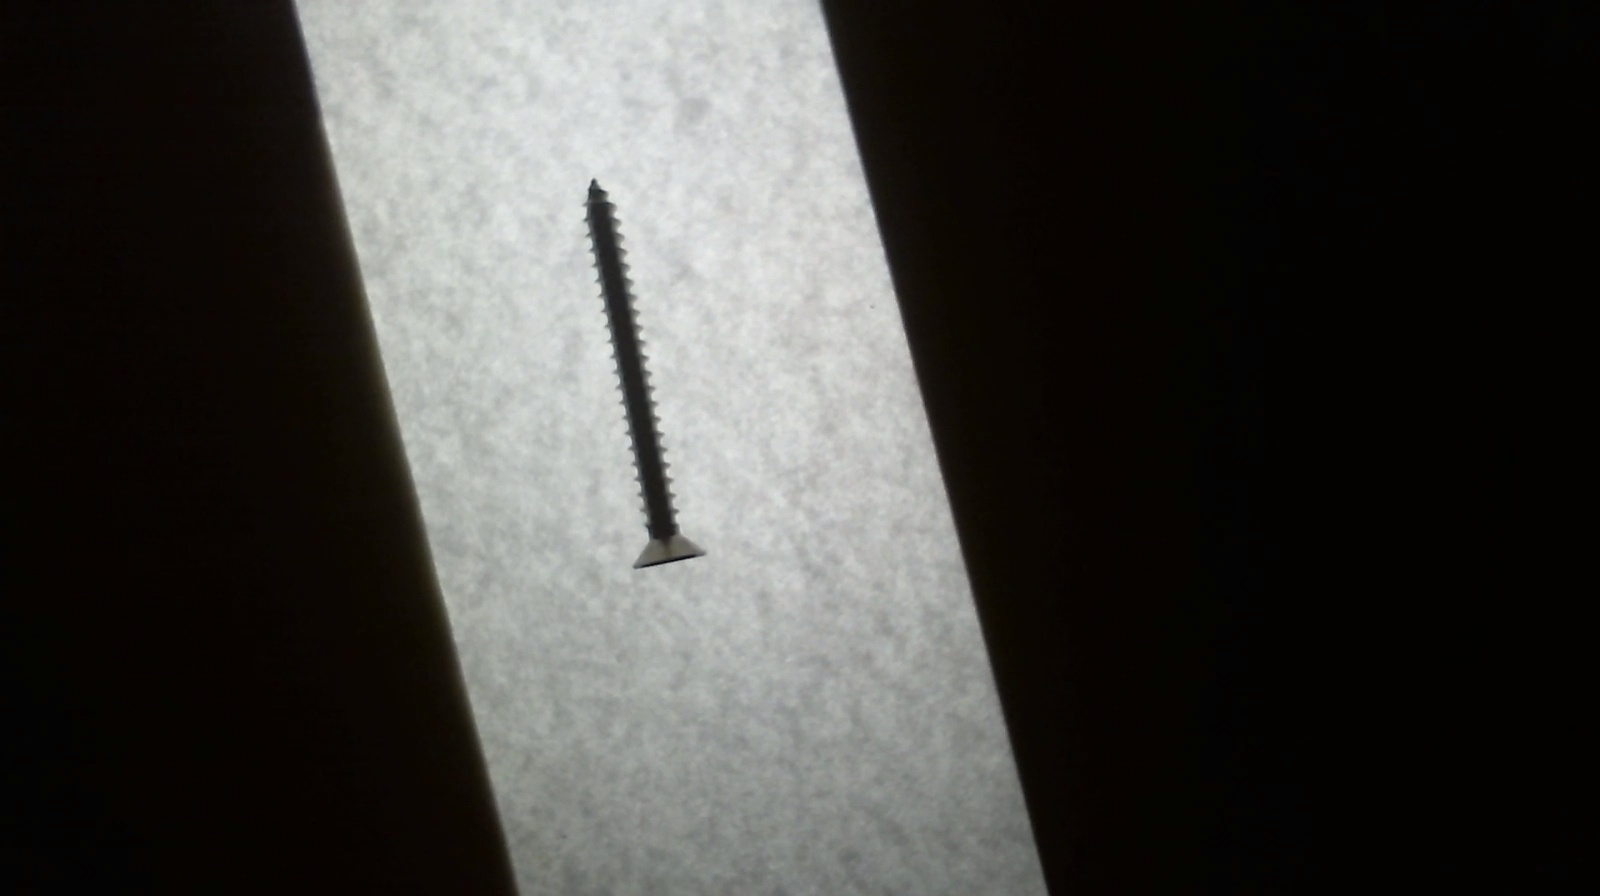S002: (551, 173, 727, 577)
